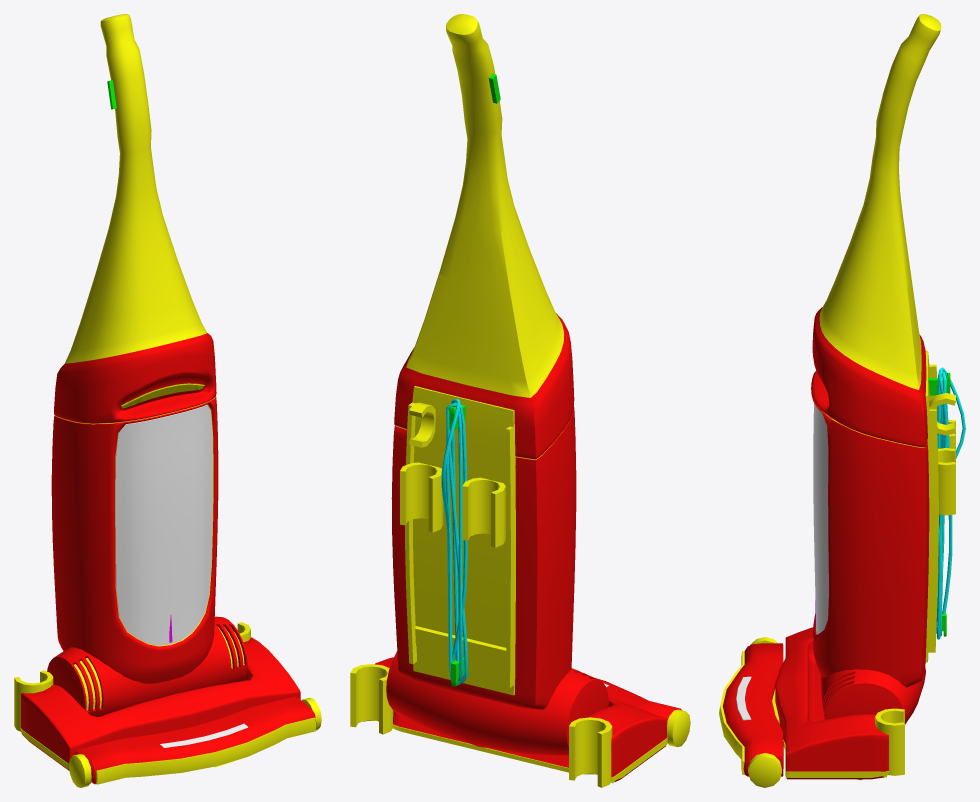
The model's file is vacuum_cleaners_grp.fbx.
The picture shows the model from 3 angles, left to right: view 1: azimuth 30°, elevation 25°; view 2: azimuth 150°, elevation 25°; view 3: azimuth 270°, elevation 25°; orthographic projection. The views are drawn at different scales.
Visible parts, largest first — view 1: vacuum_cleaner_1; view 2: vacuum_cleaner_1; view 3: vacuum_cleaner_1.
Part boxes in pixels (x1,y1,x2,y2): vacuum_cleaner_1: (14,14,321,787); vacuum_cleaner_1: (350,14,690,787); vacuum_cleaner_1: (719,14,965,787).
Bounding box in the file's own units: 36.56 × 100 × 31.56.
